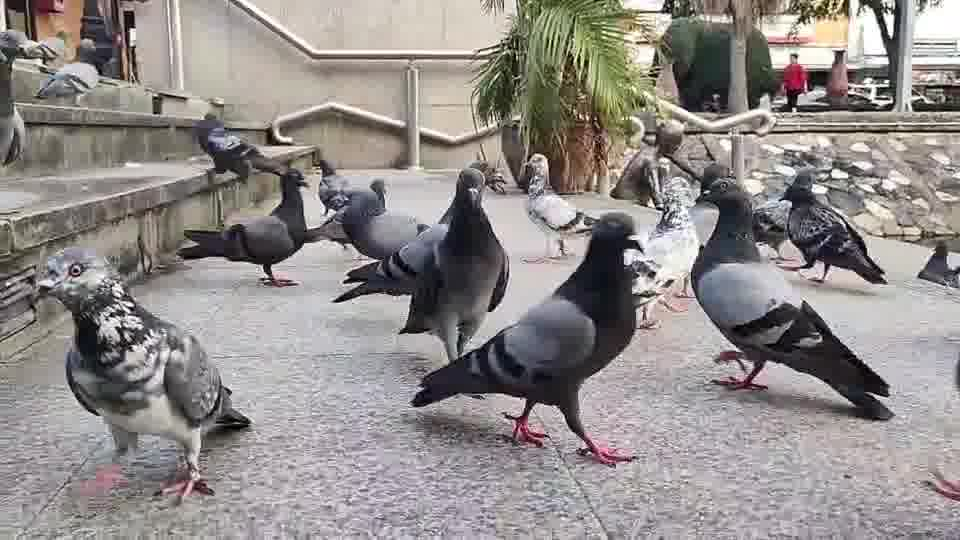Pigeon: (408, 211, 651, 467), (34, 245, 252, 498), (688, 174, 895, 421), (329, 166, 510, 363), (175, 167, 313, 287), (776, 168, 888, 285), (519, 152, 592, 262), (190, 115, 286, 181), (0, 28, 58, 66), (917, 240, 959, 289), (468, 142, 507, 194), (34, 71, 91, 98)
